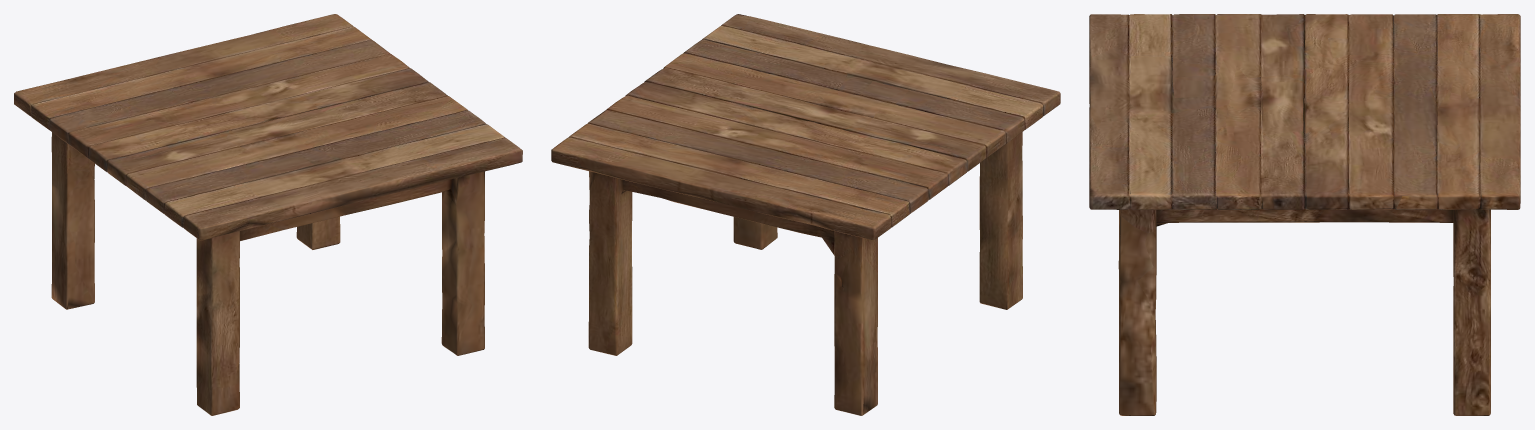
File: prop_table-CdT1BXVn.glb
The picture shows the model from 3 angles, left to right: view 1: azimuth 30°, elevation 25°; view 2: azimuth 150°, elevation 25°; view 3: azimuth 270°, elevation 25°; orthographic projection. The views are drawn at different scales.
Visible parts, largest first — view 1: tripo_node_8892943e-2bfb-4dd6-912e-fd03c314df73; view 2: tripo_node_8892943e-2bfb-4dd6-912e-fd03c314df73; view 3: tripo_node_8892943e-2bfb-4dd6-912e-fd03c314df73.
Part boxes in pixels (box(x1,y1,x2,y2)): tripo_node_8892943e-2bfb-4dd6-912e-fd03c314df73: box(14, 14, 522, 415); tripo_node_8892943e-2bfb-4dd6-912e-fd03c314df73: box(551, 14, 1060, 415); tripo_node_8892943e-2bfb-4dd6-912e-fd03c314df73: box(1089, 14, 1520, 415).
Size of the model in its own units: 1 by 0.6033 by 0.9993.
Materials: 1 (1 with a texture image).
